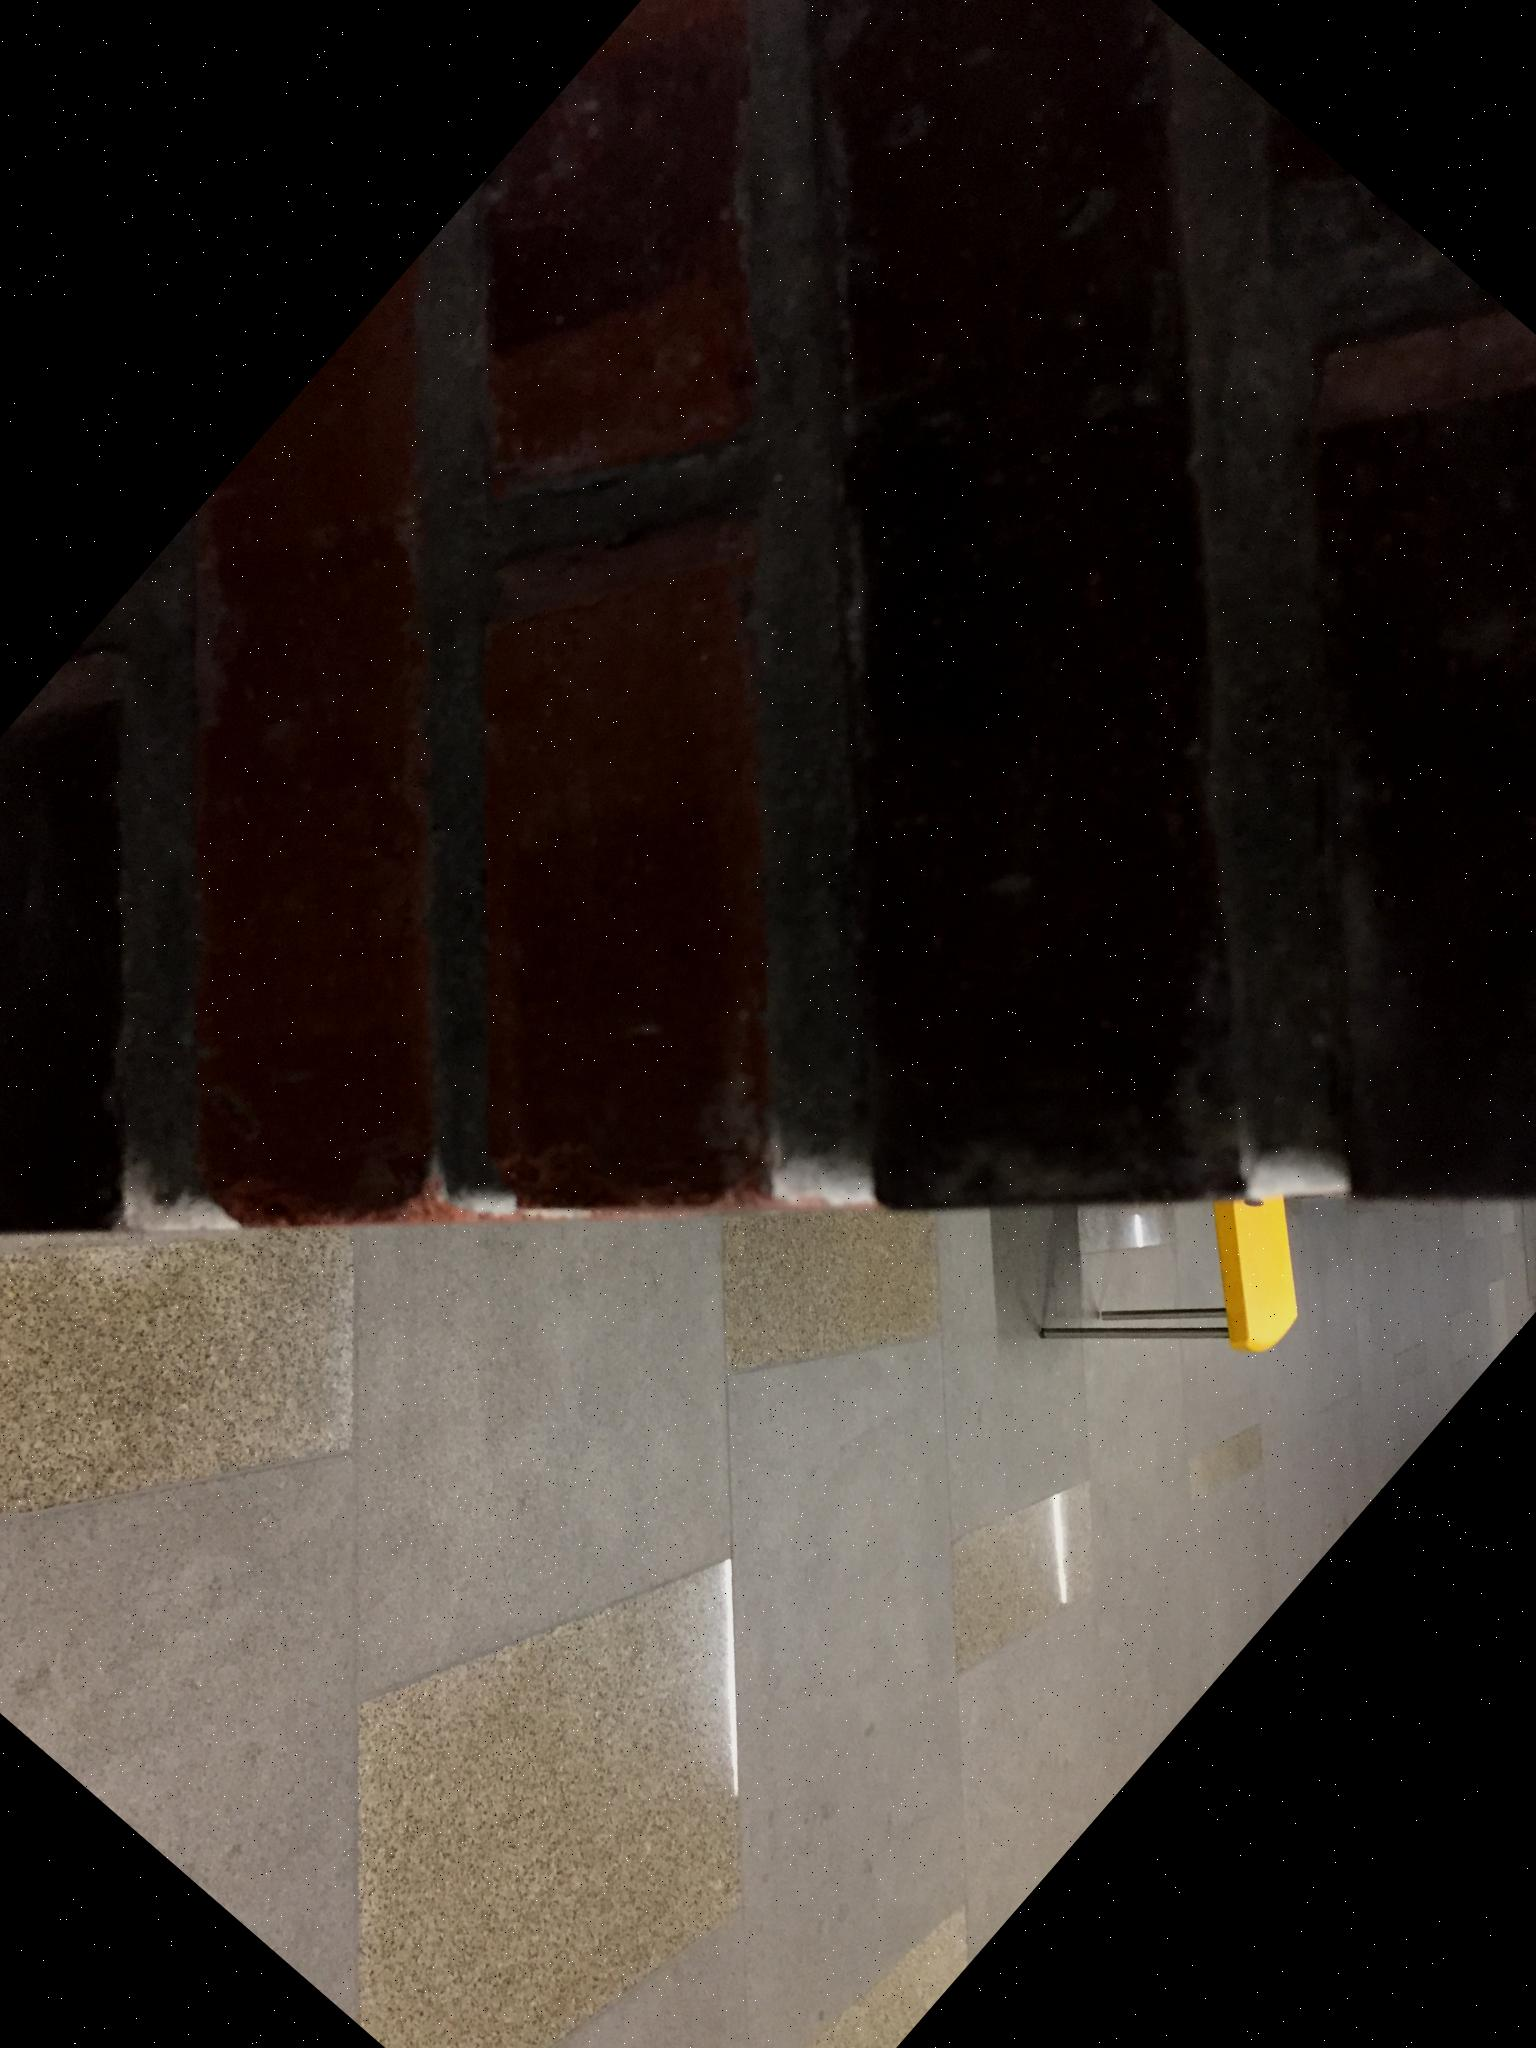chair: (981, 1084, 1355, 1458)
